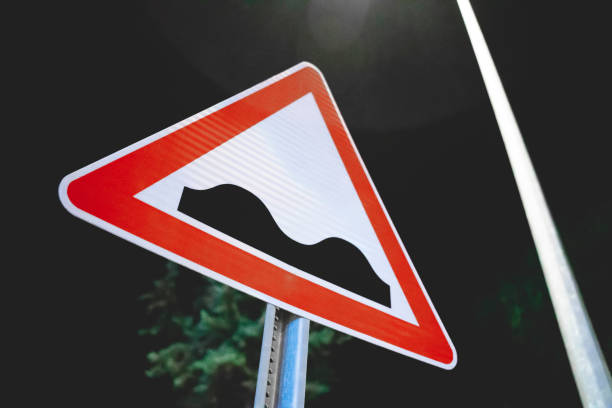speed-breaker: (136, 89, 410, 315)
